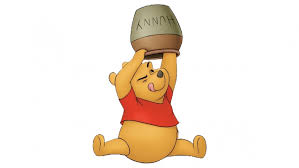Winnie: (103, 57, 186, 105)
